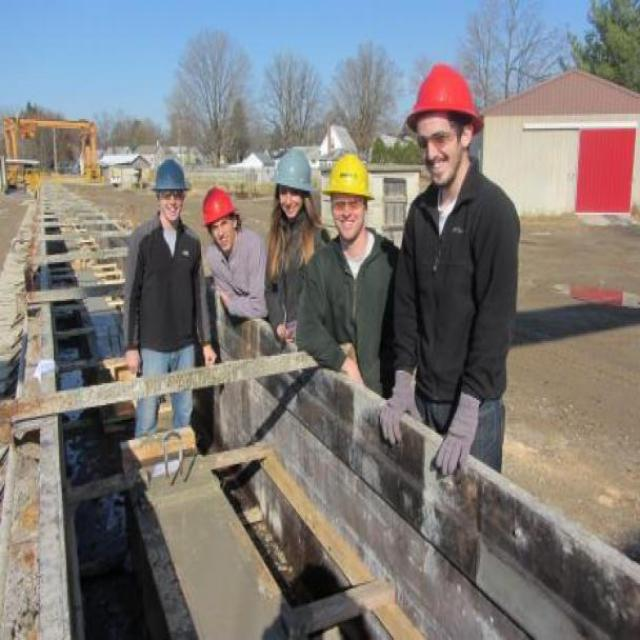gloves: (438, 376, 476, 481), (378, 361, 422, 447)
helmet: (402, 48, 479, 188), (271, 141, 318, 235), (324, 156, 369, 244), (137, 152, 191, 219), (198, 177, 240, 260)
